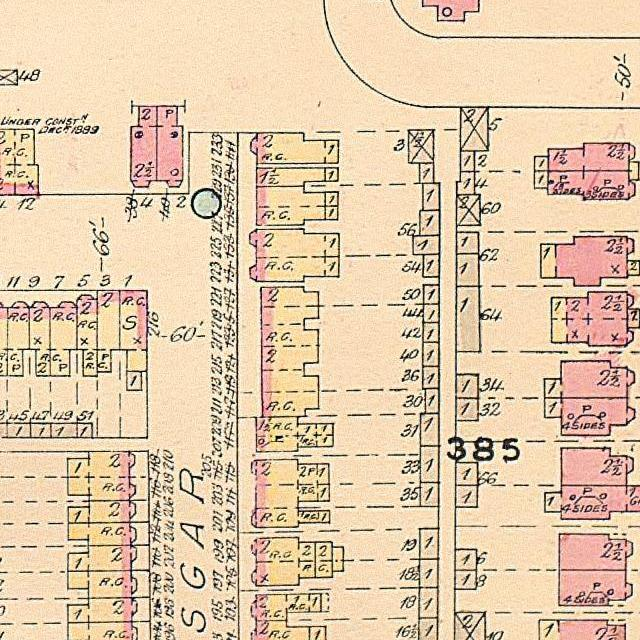building-footprints: (260, 287, 318, 417), (251, 460, 329, 527), (547, 143, 634, 200), (540, 237, 639, 286), (249, 229, 339, 282), (551, 292, 633, 346), (67, 452, 135, 501), (544, 361, 634, 398), (544, 398, 634, 435), (544, 486, 640, 519), (251, 537, 315, 586), (561, 448, 633, 486), (250, 133, 338, 164), (256, 186, 325, 225), (558, 534, 632, 570), (558, 570, 631, 606), (256, 417, 333, 451), (0, 129, 38, 195), (119, 290, 147, 372), (130, 106, 157, 187), (156, 106, 182, 187), (67, 570, 136, 598), (50, 302, 76, 376), (97, 290, 120, 372), (251, 594, 321, 620), (67, 545, 137, 571), (67, 598, 137, 623), (76, 295, 97, 376), (539, 620, 624, 640), (68, 522, 136, 546), (7, 302, 29, 376), (456, 286, 480, 351), (29, 302, 50, 376), (67, 501, 135, 523), (256, 168, 338, 186), (67, 622, 136, 640), (460, 107, 488, 151), (422, 0, 478, 21), (251, 620, 309, 640), (454, 612, 485, 640), (408, 130, 433, 163), (456, 254, 478, 286), (456, 195, 479, 225), (420, 446, 438, 483), (315, 542, 332, 578), (420, 414, 439, 446), (418, 588, 438, 618), (419, 529, 438, 559), (419, 559, 438, 588), (455, 462, 477, 485), (456, 375, 478, 398), (0, 304, 7, 376), (419, 210, 439, 235), (413, 235, 438, 255), (422, 183, 440, 210), (455, 485, 477, 507), (456, 398, 478, 420), (456, 232, 478, 254), (454, 549, 476, 570), (418, 618, 437, 640), (420, 483, 438, 506), (456, 172, 474, 195), (455, 570, 475, 589), (422, 343, 438, 366), (51, 423, 77, 437), (422, 367, 438, 389), (7, 423, 30, 438), (423, 255, 438, 277), (425, 389, 438, 414), (423, 322, 439, 342), (423, 285, 439, 304), (30, 423, 50, 438), (126, 371, 141, 390), (419, 163, 433, 183), (460, 151, 474, 171), (423, 304, 438, 322), (332, 547, 343, 571), (0, 70, 17, 85), (627, 309, 639, 328), (309, 626, 325, 640), (534, 171, 547, 188), (77, 423, 91, 438), (534, 157, 548, 171), (325, 206, 338, 220), (629, 162, 639, 180), (325, 192, 337, 206), (0, 423, 7, 437)
